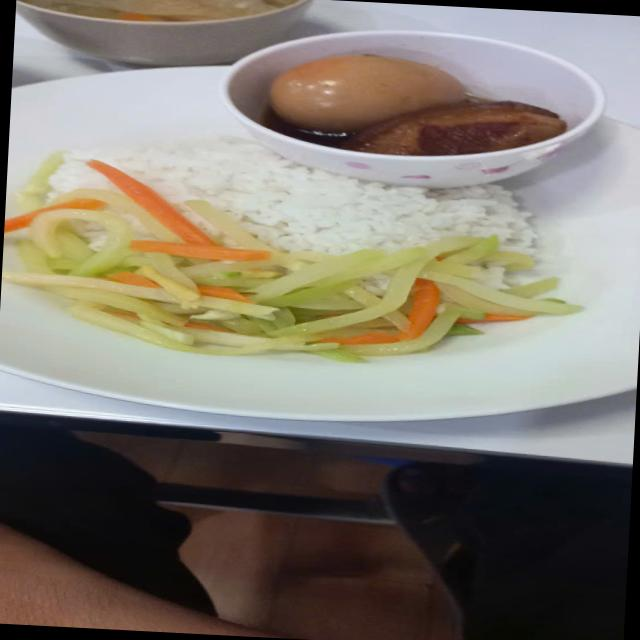com: (99, 136, 538, 260), (47, 152, 109, 201)
kho trung: (272, 55, 566, 156)
rau: (3, 154, 578, 361)
